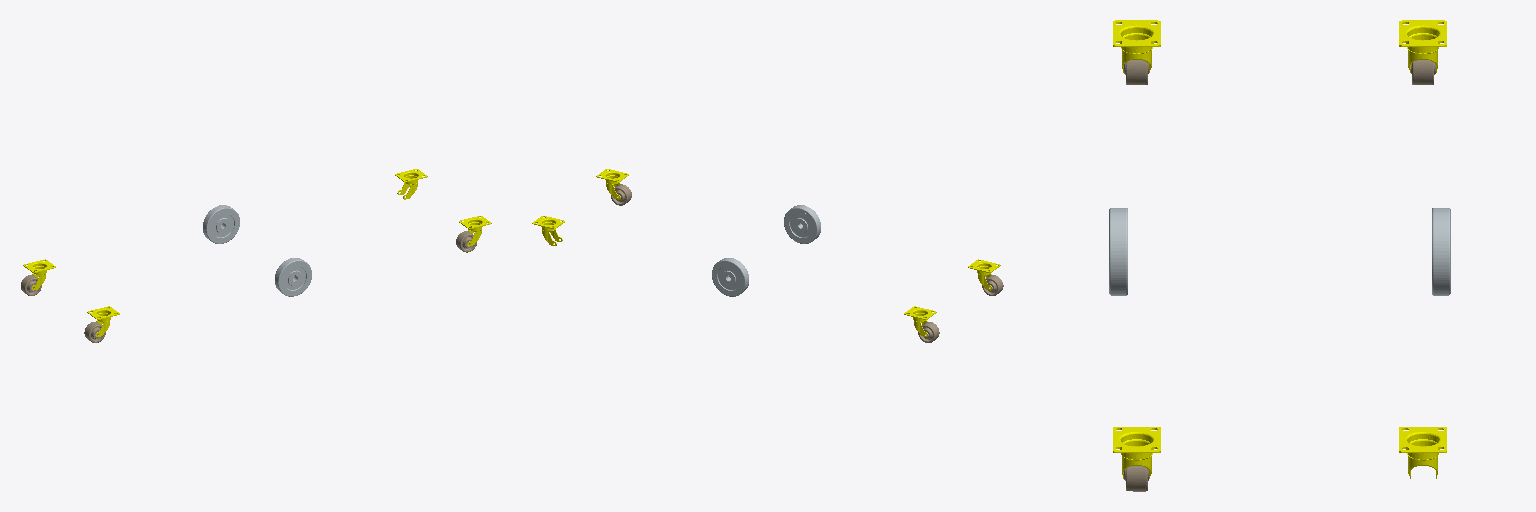
URDF robot description (urdf_tutorial):
<!-- <?xml version="1.0" encoding="utf-8"?> -->
<!-- This URDF was automatically created by SolidWorks to URDF Exporter! Originally created by Stephen Brawner (brawner@gmail.com) 
     Commit Version: 1.6.0-4-g7f85cfe  Build Version: 1.6.7995.38578
     For more information, please see http://wiki.ros.org/sw_urdf_exporter -->
<robot
  name="urdf_tutorial">
  <link
    name="base_link">
    <inertial>
      <origin
        xyz="-0.39706 0.0021613 -0.1492"
        rpy="0 0 0" />
      <mass
        value="53.597" />
      <inertia
        ixx="1.4604"
        ixy="-5.809E-05"
        ixz="-0.00014898"
        iyy="0.96382"
        iyz="-2.7267E-08"
        izz="2.0827" />
    </inertial>
    <visual>
      <origin
        xyz="0 0 0"
        rpy="0 0 0" />
      <geometry>
        <mesh
          filename="package://urdf_tutorial/meshes/base_link.STL" />
      </geometry>
      <material
        name="">
        <color
          rgba="0.32941 0.33725 0.34902 1" />
      </material>
    </visual>
    <collision>
      <origin
        xyz="0 0 0"
        rpy="0 0 0" />
      <geometry>
        <mesh
          filename="package://urdf_tutorial/meshes/base_link.STL" />
      </geometry>
    </collision>
  </link>
  <link
    name="LeftWheel">
    <inertial>
      <origin
        xyz="-8.8299E-17 0.0004924 -1.3809E-05"
        rpy="0 0 0" />
      <mass
        value="0.50154" />
      <inertia
        ixx="0.00078545"
        ixy="1.4208E-18"
        ixz="-1.394E-20"
        iyy="0.0014958"
        iyz="7.1057E-19"
        izz="0.00078553" />
    </inertial>
    <visual>
      <origin
        xyz="0 0 0"
        rpy="0 0 0" />
      <geometry>
        <mesh
          filename="package://urdf_tutorial/meshes/LeftWheel.STL" />
      </geometry>
      <material
        name="">
        <color
          rgba="0.73725 0.77647 0.8 1" />
      </material>
    </visual>
    <collision>
      <origin
        xyz="0 0 0"
        rpy="0 0 0" />
      <geometry>
        <mesh
          filename="package://urdf_tutorial/meshes/LeftWheel.STL" />
      </geometry>
    </collision>
  </link>
  <joint
    name="LeftWheel"
    type="continuous">
    <origin
      xyz="0 0.274007595096939 -0.287999999999999"
      rpy="0 0 0" />
    <parent
      link="base_link" />
    <child
      link="LeftWheel" />
    <axis
      xyz="0 -1 0" />
    <limit
      effort="10"
      velocity="10" />
    <dynamics
      damping="0.1"
      friction="0.1" />
  </joint>
  <link
    name="RightWheel">
    <inertial>
      <origin
        xyz="8.7397E-17 -0.0004924 -1.3809E-05"
        rpy="0 0 0" />
      <mass
        value="0.50154" />
      <inertia
        ixx="0.00078545"
        ixy="-7.1793E-19"
        ixz="2.9895E-20"
        iyy="0.0014958"
        iyz="-7.0116E-19"
        izz="0.00078553" />
    </inertial>
    <visual>
      <origin
        xyz="0 0 0"
        rpy="0 0 0" />
      <geometry>
        <mesh
          filename="package://urdf_tutorial/meshes/RightWheel.STL" />
      </geometry>
      <material
        name="">
        <color
          rgba="0.73725 0.77647 0.8 1" />
      </material>
    </visual>
    <collision>
      <origin
        xyz="0 0 0"
        rpy="0 0 0" />
      <geometry>
        <mesh
          filename="package://urdf_tutorial/meshes/RightWheel.STL" />
      </geometry>
    </collision>
  </link>
  <joint
    name="RightWheel"
    type="continuous">
    <origin
      xyz="0 -0.274007595096459 -0.287999999999999"
      rpy="0 0 0" />
    <parent
      link="base_link" />
    <child
      link="RightWheel" />
    <axis
      xyz="0 1 0" />
    <limit
      effort="10"
      velocity="10" />
    <dynamics
      damping="0.1"
      friction="0.1" />
  </joint>
  <link
    name="LeftFront">
    <inertial>
      <origin
        xyz="-0.0017825 -3.4053E-07 -0.017618"
        rpy="0 0 0" />
      <mass
        value="0.043191" />
      <inertia
        ixx="4.3814E-05"
        ixy="8.8182E-12"
        ixz="-5.0448E-06"
        iyy="4.9781E-05"
        iyz="-8.2252E-11"
        izz="5.2179E-05" />
    </inertial>
    <visual>
      <origin
        xyz="0 0 0"
        rpy="0 0 0" />
      <geometry>
        <mesh
          filename="package://urdf_tutorial/meshes/LeftFront.STL" />
      </geometry>
      <material
        name="">
        <color
          rgba="0.94902 0.94902 0 1" />
      </material>
    </visual>
    <collision>
      <origin
        xyz="0 0 0"
        rpy="0 0 0" />
      <geometry>
        <mesh
          filename="package://urdf_tutorial/meshes/LeftFront.STL" />
      </geometry>
    </collision>
  </link>
  <joint
    name="LeftFront"
    type="continuous">
    <origin
      xyz="0.818500000000096 0.244000000000239 -0.259"
      rpy="0 0 0" />
    <parent
      link="base_link" />
    <child
      link="LeftFront" />
    <axis
      xyz="0 -1 0" />
    <limit
      effort="10"
      velocity="10" />
    <dynamics
      damping="0.1"
      friction="0.1" />
  </joint>
  <link
    name="CasterLeftFront">
    <inertial>
      <origin
        xyz="0 2.7756E-17 2.1684E-18"
        rpy="0 0 0" />
      <mass
        value="0.12378" />
      <inertia
        ixx="6.1376E-05"
        ixy="-5.0211E-20"
        ixz="3.9987E-21"
        iyy="9.613E-05"
        iyz="3.0478E-21"
        izz="6.1376E-05" />
    </inertial>
    <visual>
      <origin
        xyz="0 0 0"
        rpy="0 0 0" />
      <geometry>
        <mesh
          filename="package://urdf_tutorial/meshes/CasterLeftFront.STL" />
      </geometry>
      <material
        name="">
        <color
          rgba="0.65882 0.60784 0.52941 1" />
      </material>
    </visual>
    <collision>
      <origin
        xyz="0 0 0"
        rpy="0 0 0" />
      <geometry>
        <mesh
          filename="package://urdf_tutorial/meshes/CasterLeftFront.STL" />
      </geometry>
    </collision>
  </link>
  <joint
    name="CasterLeftFront"
    type="fixed">
    <origin
      xyz="-0.0374999999996312 0 -0.0745"
      rpy="0 0 0" />
    <parent
      link="LeftFront" />
    <child
      link="CasterLeftFront" />
    <axis
      xyz="0 0 0" />
    <limit
      effort="10"
      velocity="10" />
    <dynamics
      damping="0.1"
      friction="0.1" />
  </joint>
  <link
    name="RightFront">
    <inertial>
      <origin
        xyz="-0.0017825 -3.4053E-07 -0.017618"
        rpy="0 0 0" />
      <mass
        value="0.043191" />
      <inertia
        ixx="4.3814E-05"
        ixy="8.8182E-12"
        ixz="-5.0448E-06"
        iyy="4.9781E-05"
        iyz="-8.2252E-11"
        izz="5.2179E-05" />
    </inertial>
    <visual>
      <origin
        xyz="0 0 0"
        rpy="0 0 0" />
      <geometry>
        <mesh
          filename="package://urdf_tutorial/meshes/RightFront.STL" />
      </geometry>
      <material
        name="">
        <color
          rgba="0.94902 0.94902 0 1" />
      </material>
    </visual>
    <collision>
      <origin
        xyz="0 0 0"
        rpy="0 0 0" />
      <geometry>
        <mesh
          filename="package://urdf_tutorial/meshes/RightFront.STL" />
      </geometry>
    </collision>
  </link>
  <joint
    name="RightFront"
    type="continuous">
    <origin
      xyz="0.8185 -0.244 -0.259"
      rpy="0 0 0" />
    <parent
      link="base_link" />
    <child
      link="RightFront" />
    <axis
      xyz="0 -1 0" />
    <limit
      effort="10"
      velocity="10" />
    <dynamics
      damping="0.1"
      friction="0.1" />
  </joint>
  <link
    name="CasterRightWheelFront">
    <inertial>
      <origin
        xyz="1.1102E-16 -8.3267E-17 0"
        rpy="0 0 0" />
      <mass
        value="0.12378" />
      <inertia
        ixx="6.1376E-05"
        ixy="4.4916E-18"
        ixz="-7.0233E-21"
        iyy="9.613E-05"
        iyz="3.5502E-20"
        izz="6.1376E-05" />
    </inertial>
    <visual>
      <origin
        xyz="0 0 0"
        rpy="0 0 0" />
      <geometry>
        <mesh
          filename="package://urdf_tutorial/meshes/CasterRightWheelFront.STL" />
      </geometry>
      <material
        name="">
        <color
          rgba="0.65882 0.60784 0.52941 1" />
      </material>
    </visual>
    <collision>
      <origin
        xyz="0 0 0"
        rpy="0 0 0" />
      <geometry>
        <mesh
          filename="package://urdf_tutorial/meshes/CasterRightWheelFront.STL" />
      </geometry>
    </collision>
  </link>
  <joint
    name="CasterRightWheelFront"
    type="continuous">
    <origin
      xyz="-0.0375 0 -0.0745"
      rpy="0 0 0" />
    <parent
      link="RightFront" />
    <child
      link="CasterRightWheelFront" />
    <axis
      xyz="0 -1 0" />
    <limit
      effort="10"
      velocity="10" />
    <dynamics
      damping="0.1"
      friction="0.1" />
  </joint>
  <link
    name="Left_Back">
    <inertial>
      <origin
        xyz="-0.0017825 -3.4053E-07 -0.017618"
        rpy="0 0 0" />
      <mass
        value="0.043191" />
      <inertia
        ixx="4.3814E-05"
        ixy="8.8182E-12"
        ixz="-5.0448E-06"
        iyy="4.9781E-05"
        iyz="-8.2252E-11"
        izz="5.2179E-05" />
    </inertial>
    <visual>
      <origin
        xyz="0 0 0"
        rpy="0 0 0" />
      <geometry>
        <mesh
          filename="package://urdf_tutorial/meshes/Left_Back.STL" />
      </geometry>
      <material
        name="">
        <color
          rgba="0.94902 0.94902 0 1" />
      </material>
    </visual>
    <collision>
      <origin
        xyz="0 0 0"
        rpy="0 0 0" />
      <geometry>
        <mesh
          filename="package://urdf_tutorial/meshes/Left_Back.STL" />
      </geometry>
    </collision>
  </link>
  <joint
    name="Left_Back"
    type="continuous">
    <origin
      xyz="-0.8185 0.244 -0.259"
      rpy="0 0 0" />
    <parent
      link="base_link" />
    <child
      link="Left_Back" />
    <axis
      xyz="0 -1 0" />
    <limit
      effort="10"
      velocity="10" />
    <dynamics
      damping="0.1"
      friction="0.1" />
  </joint>
  <link
    name="LeftBackCasterWheel">
    <inertial>
      <origin
        xyz="0 0.016 2.1684E-18"
        rpy="0 0 0" />
      <mass
        value="0.12378" />
      <inertia
        ixx="6.1376E-05"
        ixy="-1.4938E-21"
        ixz="2.8577E-21"
        iyy="9.613E-05"
        iyz="2.3329E-21"
        izz="6.1376E-05" />
    </inertial>
    <visual>
      <origin
        xyz="0 0 0"
        rpy="0 0 0" />
      <geometry>
        <mesh
          filename="package://urdf_tutorial/meshes/LeftBackCasterWheel.STL" />
      </geometry>
      <material
        name="">
        <color
          rgba="0.65882 0.60784 0.52941 1" />
      </material>
    </visual>
    <collision>
      <origin
        xyz="0 0 0"
        rpy="0 0 0" />
      <geometry>
        <mesh
          filename="package://urdf_tutorial/meshes/LeftBackCasterWheel.STL" />
      </geometry>
    </collision>
  </link>
  <joint
    name="LeftBackCasterWheel"
    type="continuous">
    <origin
      xyz="-0.0375 -0.016 -0.0745"
      rpy="0 0 0" />
    <parent
      link="Left_Back" />
    <child
      link="LeftBackCasterWheel" />
    <axis
      xyz="0 -1 0" />
    <limit
      effort="10"
      velocity="10" />
    <dynamics
      damping="0.1"
      friction="0.1" />
  </joint>
  <link
    name="RightBack">
    <inertial>
      <origin
        xyz="-0.0017825 -3.4053E-07 -0.017618"
        rpy="0 0 0" />
      <mass
        value="0.043191" />
      <inertia
        ixx="4.3814E-05"
        ixy="8.8182E-12"
        ixz="-5.0448E-06"
        iyy="4.9781E-05"
        iyz="-8.2252E-11"
        izz="5.2179E-05" />
    </inertial>
    <visual>
      <origin
        xyz="0 0 0"
        rpy="0 0 0" />
      <geometry>
        <mesh
          filename="package://urdf_tutorial/meshes/RightBack.STL" />
      </geometry>
      <material
        name="">
        <color
          rgba="0.94902 0.94902 0 1" />
      </material>
    </visual>
    <collision>
      <origin
        xyz="0 0 0"
        rpy="0 0 0" />
      <geometry>
        <mesh
          filename="package://urdf_tutorial/meshes/RightBack.STL" />
      </geometry>
    </collision>
  </link>
  <joint
    name="RightBack"
    type="continuous">
    <origin
      xyz="-0.8185 -0.244 -0.259"
      rpy="0 0 0" />
    <parent
      link="base_link" />
    <child
      link="RightBack" />
    <axis
      xyz="0 -1 0" />
    <limit
      effort="10"
      velocity="10" />
    <dynamics
      damping="0.1"
      friction="0.1" />
  </joint>
  <link
    name="RightBackCasterWheel">
    <inertial>
      <origin
        xyz="0 2.7756E-17 1.7347E-18"
        rpy="0 0 0" />
      <mass
        value="0.12378" />
      <inertia
        ixx="6.1376E-05"
        ixy="-5.0211E-20"
        ixz="3.9987E-21"
        iyy="9.613E-05"
        iyz="1.9749E-21"
        izz="6.1376E-05" />
    </inertial>
    <visual>
      <origin
        xyz="0 0 0"
        rpy="0 0 0" />
      <geometry>
        <mesh
          filename="package://urdf_tutorial/meshes/RightBackCasterWheel.STL" />
      </geometry>
      <material
        name="">
        <color
          rgba="0.65882 0.60784 0.52941 1" />
      </material>
    </visual>
    <collision>
      <origin
        xyz="0 0 0"
        rpy="0 0 0" />
      <geometry>
        <mesh
          filename="package://urdf_tutorial/meshes/RightBackCasterWheel.STL" />
      </geometry>
    </collision>
  </link>
  <joint
    name="RightBackCasterWheel"
    type="continuous">
    <origin
      xyz="-0.0375 0 -0.0745"
      rpy="0 0 0" />
    <parent
      link="RightBack" />
    <child
      link="RightBackCasterWheel" />
    <axis
      xyz="0 -1 0" />
  </joint>
</robot>

--- Facts derived from the render (not from the file) ---
Views: 3 orthographic renders of the robot side by side, from view 1: azimuth 30°, elevation 25°; view 2: azimuth 150°, elevation 25°; view 3: azimuth 270°, elevation 25°.
Model urdf_tutorial with 11 links and 10 joints (9 continuous, 1 fixed), rooted at base_link, posed every joint at zero.
Visible links, largest first — view 1: LeftWheel, RightWheel; view 2: LeftWheel, RightWheel; view 3: Left_Back, RightBack, LeftFront, RightFront, LeftWheel, RightWheel, CasterRightWheelFront, LeftBackCasterWheel, RightBackCasterWheel.
Boxes of the visible links, x1,y1,x2,y2 form: LeftWheel: (203, 205, 239, 243); RightWheel: (275, 258, 311, 296); LeftWheel: (712, 258, 748, 296); RightWheel: (784, 205, 820, 243); Left_Back: (1399, 20, 1446, 72); RightBack: (1113, 20, 1160, 72); LeftFront: (1399, 427, 1446, 478); RightFront: (1113, 427, 1160, 478); LeftWheel: (1432, 208, 1450, 295); RightWheel: (1109, 208, 1127, 295); CasterRightWheelFront: (1124, 466, 1148, 491); LeftBackCasterWheel: (1411, 60, 1435, 84); RightBackCasterWheel: (1124, 60, 1148, 84).
Bounding box of the posed robot: 1.76 × 0.581 × 0.158 m (x, y, z).
Meshes: 11 distinct files referenced, 9 mesh visuals loaded (9 binary STL); not drawn: 2 (reference not matched to a file when rendering).
